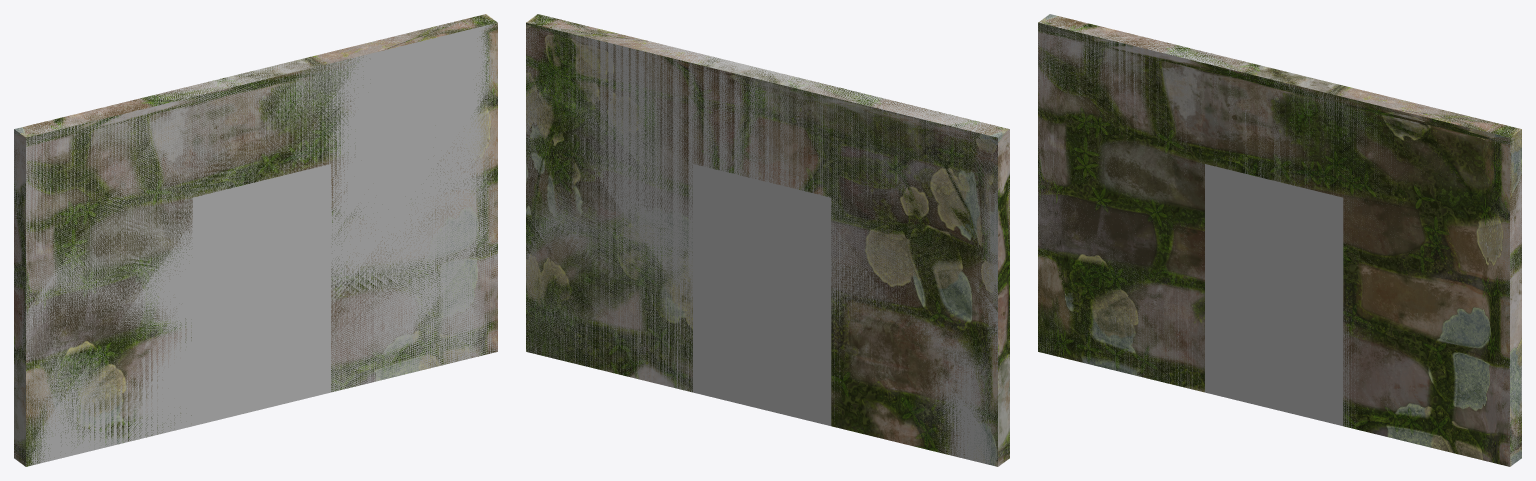
Rendered from SM_WallDoor.fbx.
3 views of the same model, side by side, from view 1: azimuth 30°, elevation 25°; view 2: azimuth 150°, elevation 25°; view 3: azimuth 330°, elevation 25° (orthographic).
Visible parts, largest first — view 1: SM_WallDoor_ConvexHulls, SM_WallDoor; view 2: SM_WallDoor_ConvexHulls, SM_WallDoor; view 3: SM_WallDoor, SM_WallDoor_ConvexHulls.
Boxes of the visible parts, bbox=[...] form: SM_WallDoor_ConvexHulls: bbox=[14, 14, 497, 466]; SM_WallDoor: bbox=[14, 14, 497, 466]; SM_WallDoor_ConvexHulls: bbox=[526, 14, 1009, 466]; SM_WallDoor: bbox=[526, 14, 1009, 466]; SM_WallDoor: bbox=[1038, 14, 1521, 466]; SM_WallDoor_ConvexHulls: bbox=[1038, 14, 1521, 466].
Size of the model in its own units: 600 by 26 by 400.
2 materials, 1 textured.
